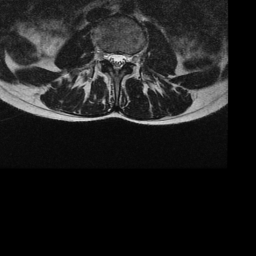CCS_normal: (113, 47, 120, 80)
LFS_normal: (127, 46, 134, 70)
LLS_normal: (120, 46, 127, 72)
RFS_normal: (100, 43, 108, 65)
RLS_normal: (107, 44, 113, 71)
